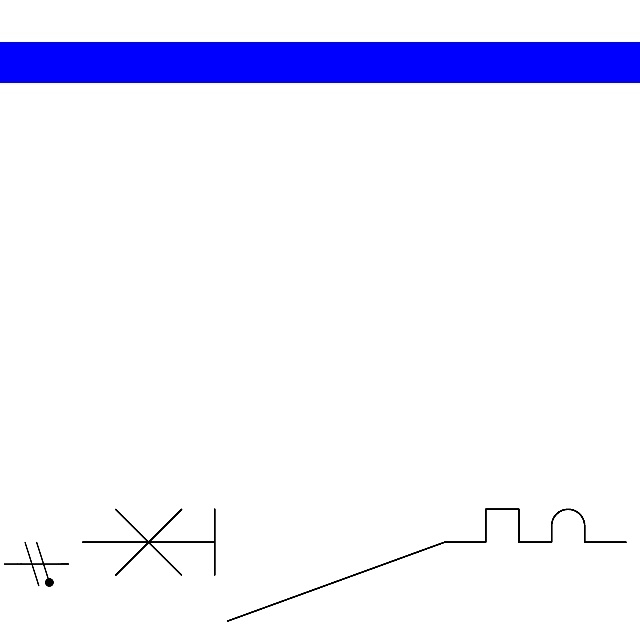interruptor_termomagnetico: (68, 495, 640, 635)
